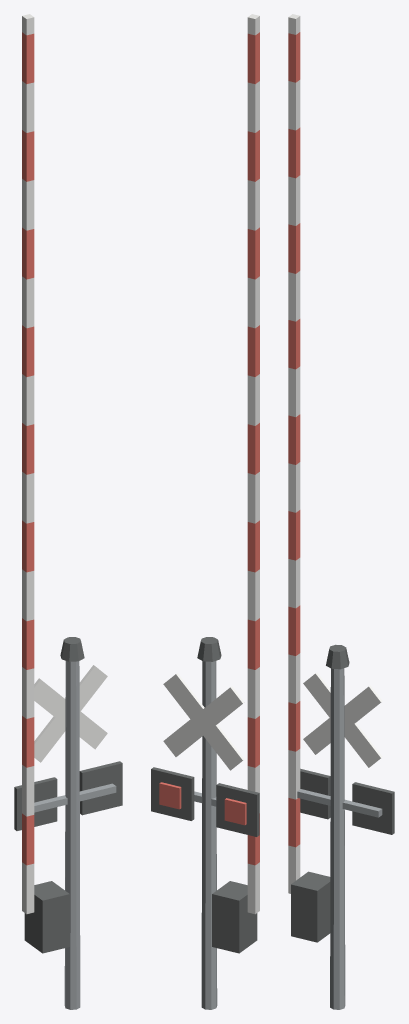
The model's file is crossing-gate-4.glb.
The picture shows the model from 3 angles, left to right: view 1: azimuth 30°, elevation 25°; view 2: azimuth 150°, elevation 25°; view 3: azimuth 330°, elevation 25°; orthographic projection. The views are drawn at different scales.
Visible parts, largest first — view 1: crossing-gate-4; view 2: crossing-gate-4; view 3: crossing-gate-4.
Boxes of the visible parts, box(x1,y1,x2,y2) form: crossing-gate-4: box(14, 14, 122, 1009); crossing-gate-4: box(151, 14, 259, 1009); crossing-gate-4: box(288, 14, 394, 1009).
Bounding box in the file's own units: 0.1106 × 1 × 0.0325.
